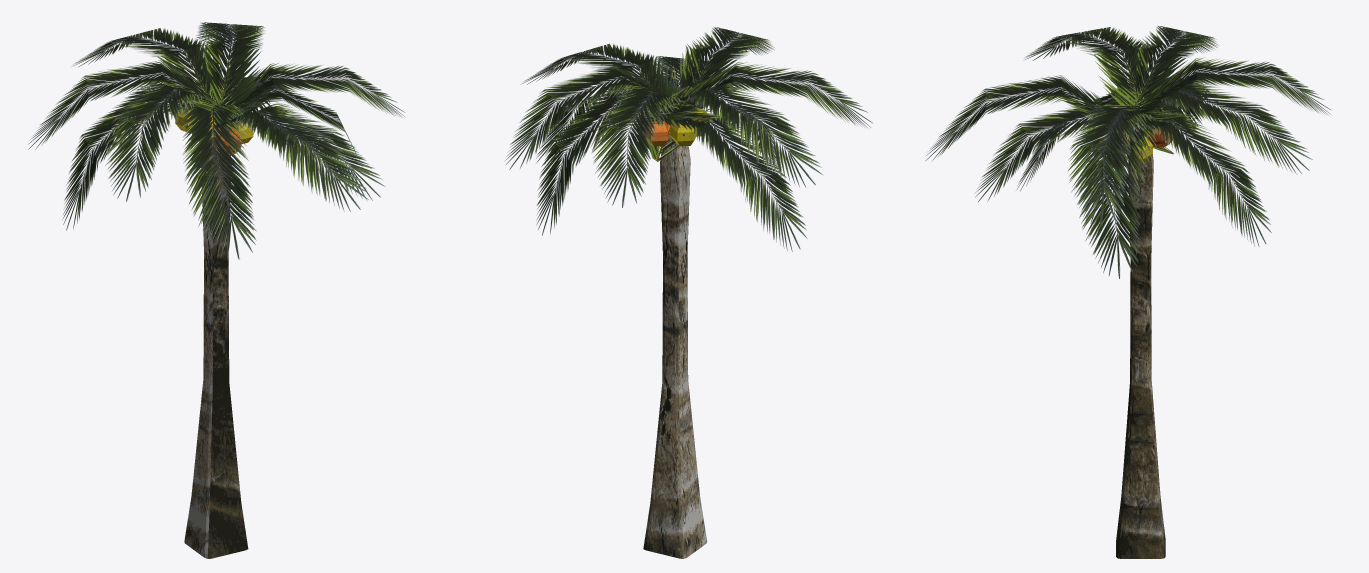
File: Coconut Tree.glb
The picture shows the model from 3 angles, left to right: view 1: azimuth 30°, elevation 25°; view 2: azimuth 150°, elevation 25°; view 3: azimuth 270°, elevation 25°; orthographic projection.
Visible parts, largest first — view 1: Cube.002, Plane.010, Plane.001, Plane.006, Plane.005, Plane.003, Plane.002, Plane.011, Plane.004, Plane.009, Plane.008; view 2: Cube.002, Plane.011, Plane.004, Plane.005, Plane.003, Plane.007, Plane.006, Plane.001, Plane.002, Plane.009, Plane.010, Plane.008; view 3: Cube.002, Plane.007, Plane.002, Plane.008, Plane.003, Plane.001, Plane.004, Plane.006, Plane.009, Plane.005, Plane.010.
Part boxes in pixels (x1,y1,x2,y2): Cube.002: (184,142,248,558); Plane.010: (181,88,256,259); Plane.001: (211,104,368,211); Plane.006: (105,81,226,201); Plane.005: (28,60,234,149); Plane.003: (193,22,264,110); Plane.002: (233,63,404,118); Plane.011: (62,85,193,230); Plane.004: (72,28,235,115); Plane.009: (235,102,385,201); Plane.008: (222,84,362,166); Cube.002: (643,137,707,558); Plane.011: (648,109,807,251); Plane.004: (592,86,696,207); Plane.005: (662,82,823,187); Plane.003: (504,65,678,169); Plane.007: (536,88,702,235); Plane.006: (671,62,872,129); Plane.001: (668,26,774,110); Plane.002: (521,43,684,139); Plane.009: (643,56,710,161); Plane.010: (621,85,781,173); Plane.008: (536,75,686,164); Cube.002: (1116,126,1165,558); Plane.007: (1115,110,1271,247); Plane.002: (1067,104,1163,225); Plane.008: (1078,110,1168,278); Plane.003: (1133,80,1312,174); Plane.001: (925,75,1103,161); Plane.004: (1141,57,1331,115); Plane.006: (1023,27,1162,125); Plane.009: (974,104,1173,201); Plane.005: (1117,25,1218,113); Plane.010: (1016,88,1195,191).
Size of the model in its own units: 6.7 by 7.75 by 6.47.
Materials: 4 (4 with a texture image).
